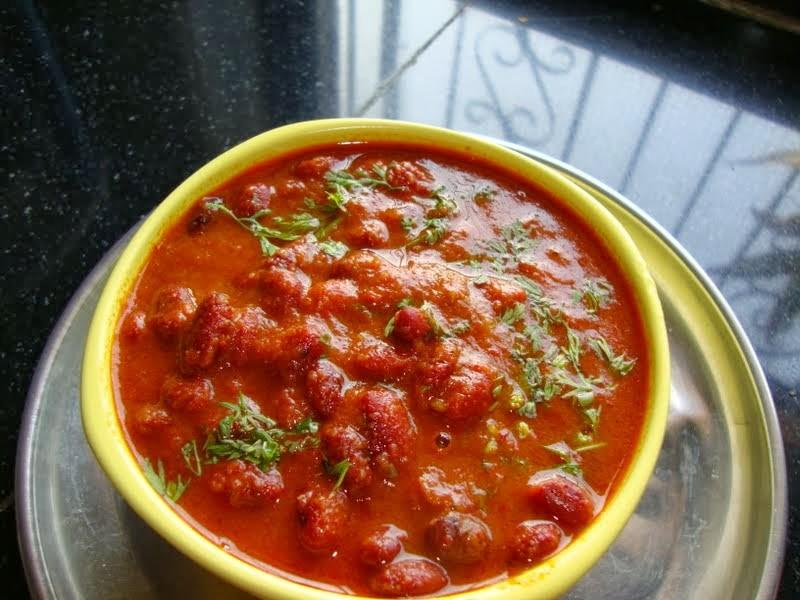RajmaCurry: (116, 133, 653, 594)
